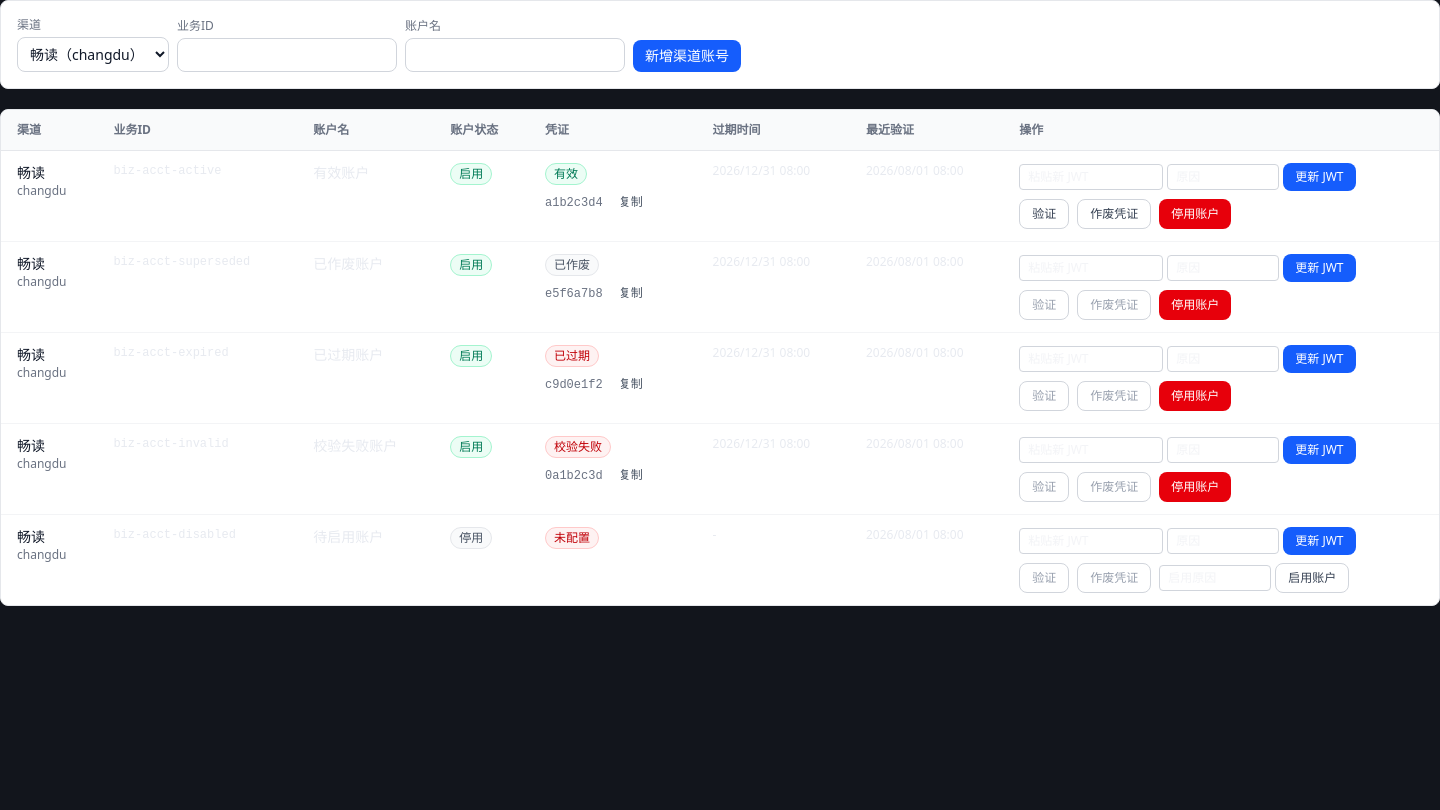
Scenario: 任务面板与 credential_task_not_found › 入队后按 taskId 查询状态并显示生命周期
Click the button "验证" in the row of "a1b2c3d4": click(1044, 214) [1019,199,1069,229]
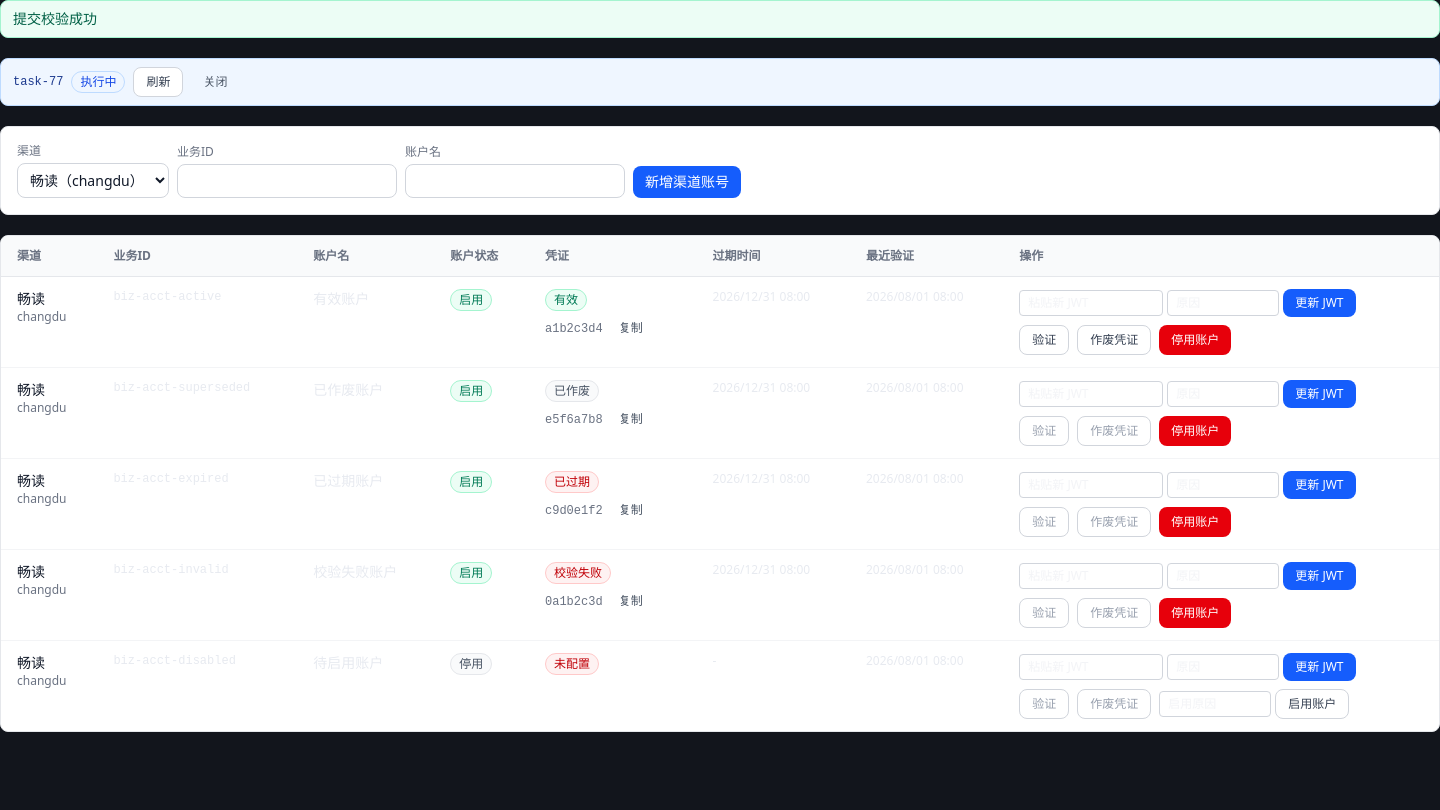
Result: the text "执行中" is shown at [71,71,125,93]
Result: the text "task-77" is shown at [13,74,63,90]
